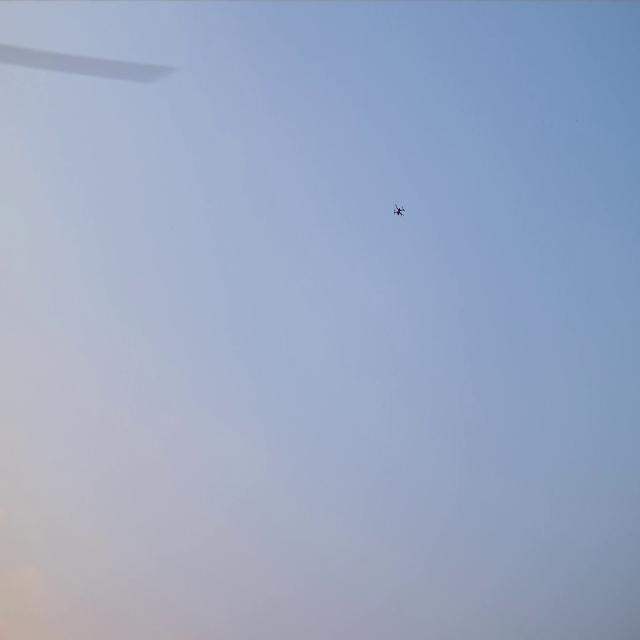UAV: (394, 207, 404, 215)
